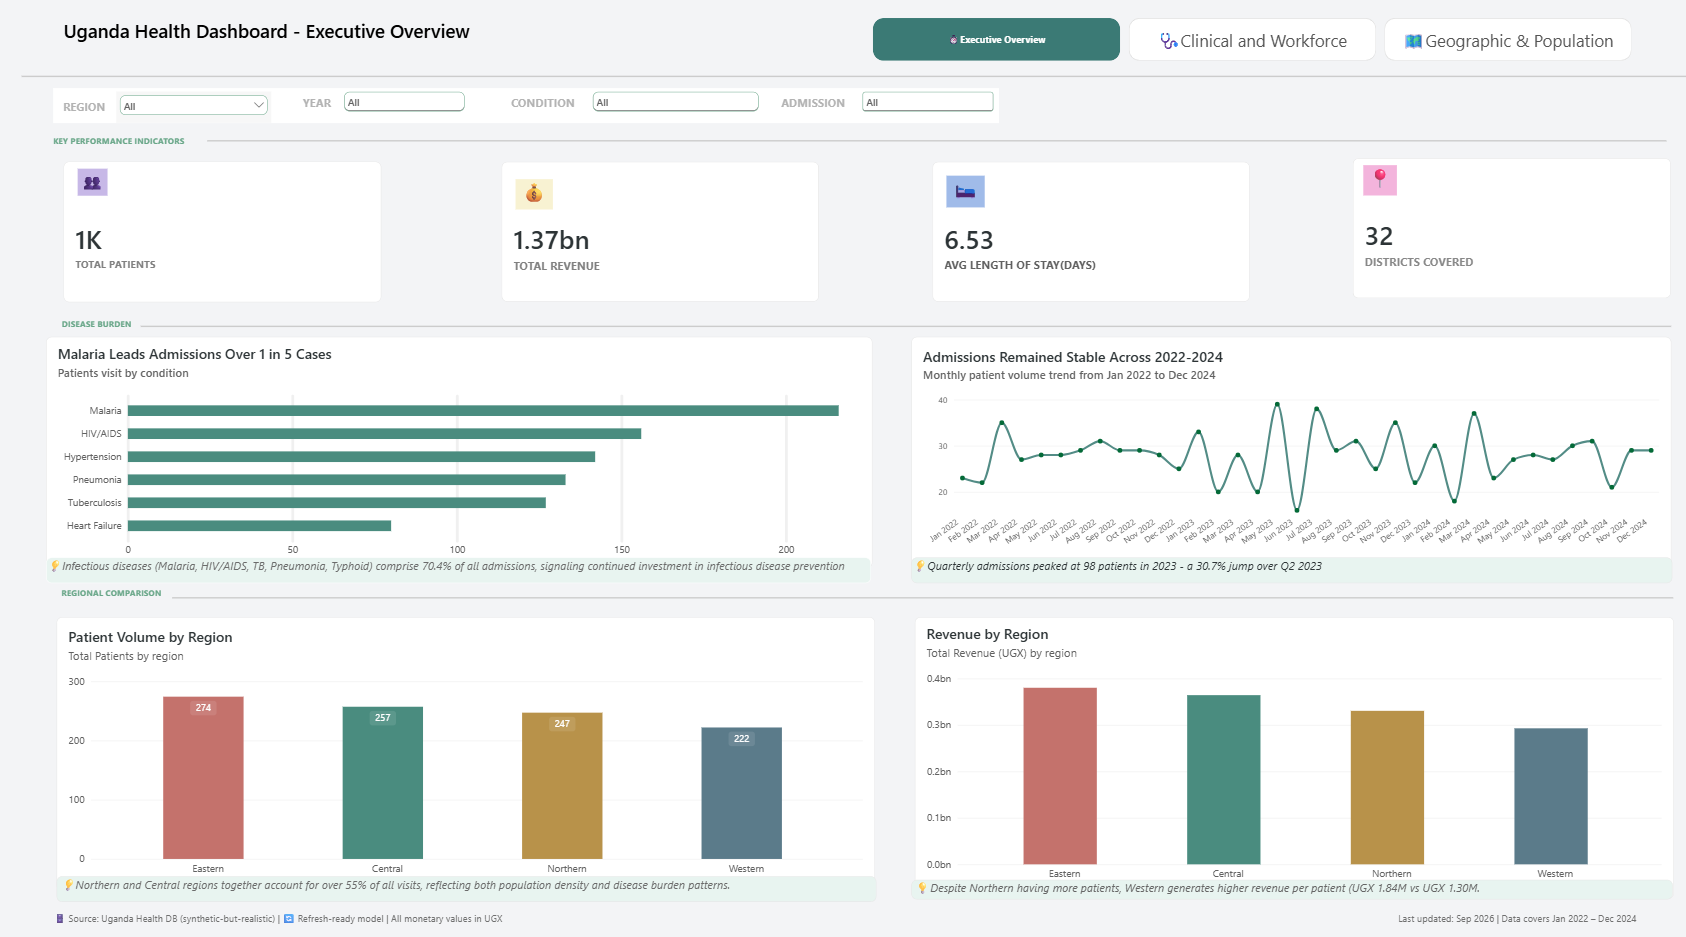

This screenshot's page, from the dashboard's own definition file:
{"tool":"powerbi","page":{"name":"⏱️Executive Overview","canvas":[2560,1440],"ordinal":0},"visuals":[{"type":"shape","box":[83,57,2476.7,76],"z":0,"group":"g11"},{"type":"slicer","fields":{"Values":["public admission_type.admission_type"]},"box":[1312.2,122.5,202.4,40.6],"z":0,"group":"g9"},{"type":"cardVisual","fields":{"Data":["public fact_patient_visits.Total Patients"]},"box":[139.2,242.4,467,211],"z":0,"group":"g5"},{"type":"group","id":"g1","title":"Group 6","box":[1418.3,243,467,211],"z":0,"group":"g3"},{"type":"clusteredBarChart","title":"Malaria Leads Admissions  Over 1 in 5 Cases","fields":{"Category":["public medical_condition.condition_name"],"Y":["public fact_patient_visits.Total Patients"]},"box":[130.3,510.1,1181.1,346.1],"z":0,"group":"g6"},{"type":"lineChart","title":"Admissions Remained Stable Across 2022-2024","fields":{"Category":["public date.MonthYearLabel"],"Y":["public fact_patient_visits.Total Patients"]},"box":[1400.2,510.1,1107.1,346.7],"z":0,"group":"g8"},{"type":"clusteredColumnChart","title":"Revenue by Region","fields":{"Category":["public district.region"],"Y":["public fact_patient_visits.Total Revenue (UGX)"]},"box":[1389.1,914.7,1117.2,437.7],"z":0,"group":"g10"},{"type":"textbox","box":[127.9,33.6,681.1,47.2],"z":1000,"group":"g11"},{"type":"slicer","fields":{"Values":["public district.region"]},"box":[219.8,125.1,227.6,44.5],"z":1000,"group":"g9"},{"type":"group","id":"g2","title":"Group 7","box":[2033.1,239.6,467.9,211.3],"z":1000,"group":"g3"},{"type":"cardVisual","fields":{"Data":["public fact_patient_visits.Total Revenue (UGX)"]},"box":[784.5,242.4,467,211],"z":1000,"group":"g4"},{"type":"clusteredColumnChart","title":"Patient Volume by Region","fields":{"Category":["public district.region"],"Y":["public fact_patient_visits.Total Patients"]},"box":[132,929,1203.9,410.8],"z":1000,"group":"g7"},{"type":"textbox","box":[1173.7,132.7,143.6,30.5],"z":2000,"group":"g9"},{"type":"group","id":"g3","title":"Group 1","box":[139.2,239.6,2361.9,214.4],"z":2000,"group":"g11"},{"type":"group","id":"g4","title":"Group 4","box":[784.5,242.4,467,211],"z":2000,"group":"g3"},{"type":"cardVisual","fields":{"Data":["public fact_patient_visits.Avg Length of Stay"]},"box":[1418.3,243,467,211],"z":2000,"group":"g12"},{"type":"slicer","fields":{"Values":["public date.year"]},"box":[548.3,122.8,187.4,44.8],"z":3000,"group":"g9"},{"type":"cardVisual","fields":{"Data":["public fact_patient_visits.Districts Covered"]},"box":[2033.1,239.6,467.9,211.3],"z":3000,"group":"g2"},{"type":"group","id":"g5","title":"Group 8","box":[139.2,242.4,467.9,211.3],"z":3000,"group":"g3"},{"type":"group","id":"g6","title":"Group 9","box":[129.9,510.1,1181.1,367.9],"z":3000,"group":"g11"},{"type":"slicer","fields":{"Values":["public medical_condition.condition_name"]},"box":[913.5,121.4,253.9,44],"z":4000,"group":"g9"},{"type":"textbox","box":[162.3,252.7,43.8,40.6],"z":4000,"group":"g5"},{"type":"group","id":"g7","title":"Group 10","box":[131.8,929,1205.7,428.3],"z":4000,"group":"g11"},{"type":"textbox","box":[128.1,135.3,91.7,33.9],"z":5000,"group":"g9"},{"type":"textbox","box":[805.3,266.9,54.7,45.3],"z":5000,"group":"g4"},{"type":"group","id":"g8","title":"Group 11","box":[1397.9,510.1,1109.4,367.9],"z":5000,"group":"g11"},{"type":"textbox","box":[477.4,133.2,75.2,32.6],"z":6000,"group":"g9"},{"type":"textbox","box":[128.1,202.6,217,24.5],"z":6000,"group":"g11"},{"type":"textbox","box":[1437.7,263.1,56.6,47.4],"z":6000,"group":"g12"},{"type":"textbox","box":[777,133.6,142.3,28.4],"z":7000,"group":"g9"},{"type":"shape","box":[343,199.6,2164.2,22.6],"z":7000,"group":"g11"},{"type":"textbox","box":[2048.3,251.5,49.3,45.7],"z":7000,"group":"g2"},{"type":"textbox","box":[1386.3,1321.2,1120.8,30.7],"z":7000,"group":"g10"},{"type":"textbox","box":[128.1,479.9,128.3,24.5],"z":8000,"group":"g11"},{"type":"shape","box":[256.2,465.7,2250.9,52.8],"z":9000,"group":"g11"},{"type":"textbox","box":[128.1,885.6,171.7,32.1],"z":10000,"group":"g11"},{"type":"shape","box":[299.6,886.4,2207.5,26.4],"z":11000,"group":"g11"},{"type":"group","id":"g9","title":"Group 5","box":[128.1,121.4,1386.8,49.1],"z":12000,"group":"g11"},{"type":"pageNavigator","box":[1731.8,17,825.6,62.7],"z":13000,"group":"g11"},{"type":"textbox","box":[129.9,838.9,1179.3,38.6],"z":13501,"group":"g6"},{"type":"textbox","box":[131.8,1318.7,1205.7,38.6],"z":14000,"group":"g7"},{"type":"textbox","box":[128.1,1374.3,2428.3,43.4],"z":14000,"group":"g11"},{"type":"textbox","box":[1397.9,839.3,1108.9,38.8],"z":14002,"group":"g8"},{"type":"group","id":"g10","title":"Group 3","box":[1386.3,914.7,1120.8,437.7],"z":15000,"group":"g11"},{"type":"group","id":"g11","title":"Group 2","box":[83,17,2476.7,1400.7],"z":16001},{"type":"group","id":"g12","title":"Group 12","box":[1418.3,243,467,211],"z":16002,"group":"g1"}]}

Visuals, with their boxes in screenshot pixels (x1, y1, x2, y2), scaled from the page's 2560x1440 canvas onto the 1686x937 screenshot:
shape: bbox=[55, 37, 1685, 87]
slicer - public admission_type.admission_type: bbox=[864, 80, 998, 106]
cardVisual - public fact_patient_visits.Total Patients: bbox=[92, 158, 399, 295]
"Group 6" group: bbox=[934, 158, 1242, 295]
"Malaria Leads Admissions  Over 1 in 5 Cases" clusteredBarChart: bbox=[86, 332, 864, 557]
"Admissions Remained Stable Across 2022-2024" lineChart: bbox=[922, 332, 1651, 558]
"Revenue by Region" clusteredColumnChart: bbox=[915, 595, 1651, 880]
textbox: bbox=[84, 22, 533, 53]
slicer - public district.region: bbox=[145, 81, 295, 110]
"Group 7" group: bbox=[1339, 156, 1647, 293]
cardVisual - public fact_patient_visits.Total Revenue (UGX): bbox=[517, 158, 824, 295]
"Patient Volume by Region" clusteredColumnChart: bbox=[87, 604, 880, 872]
textbox: bbox=[773, 86, 868, 106]
"Group 1" group: bbox=[92, 156, 1647, 295]
"Group 4" group: bbox=[517, 158, 824, 295]
cardVisual - public fact_patient_visits.Avg Length of Stay: bbox=[934, 158, 1242, 295]
slicer - public date.year: bbox=[361, 80, 485, 109]
cardVisual - public fact_patient_visits.Districts Covered: bbox=[1339, 156, 1647, 293]
"Group 8" group: bbox=[92, 158, 400, 295]
"Group 9" group: bbox=[86, 332, 863, 571]
slicer - public medical_condition.condition_name: bbox=[602, 79, 769, 108]
textbox: bbox=[107, 164, 136, 191]
"Group 10" group: bbox=[87, 604, 881, 883]
textbox: bbox=[84, 88, 145, 110]
textbox: bbox=[530, 174, 566, 203]
"Group 11" group: bbox=[921, 332, 1651, 571]
textbox: bbox=[314, 87, 364, 108]
textbox: bbox=[84, 132, 227, 148]
textbox: bbox=[947, 171, 984, 202]
textbox: bbox=[512, 87, 605, 105]
shape: bbox=[226, 130, 1651, 145]
textbox: bbox=[1349, 164, 1381, 193]
textbox: bbox=[913, 860, 1651, 880]
textbox: bbox=[84, 312, 169, 328]
shape: bbox=[169, 303, 1651, 337]
textbox: bbox=[84, 576, 197, 597]
shape: bbox=[197, 577, 1651, 594]
"Group 5" group: bbox=[84, 79, 998, 111]
pageNavigator: bbox=[1141, 11, 1684, 52]
textbox: bbox=[86, 546, 862, 571]
textbox: bbox=[87, 858, 881, 883]
textbox: bbox=[84, 894, 1684, 922]
textbox: bbox=[921, 546, 1651, 571]
"Group 3" group: bbox=[913, 595, 1651, 880]
"Group 2" group: bbox=[55, 11, 1685, 922]
"Group 12" group: bbox=[934, 158, 1242, 295]
